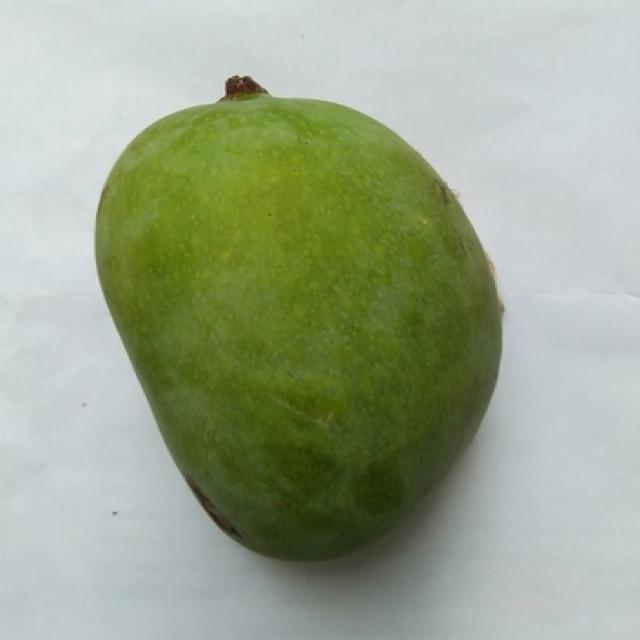Mango: (96, 92, 500, 560)
